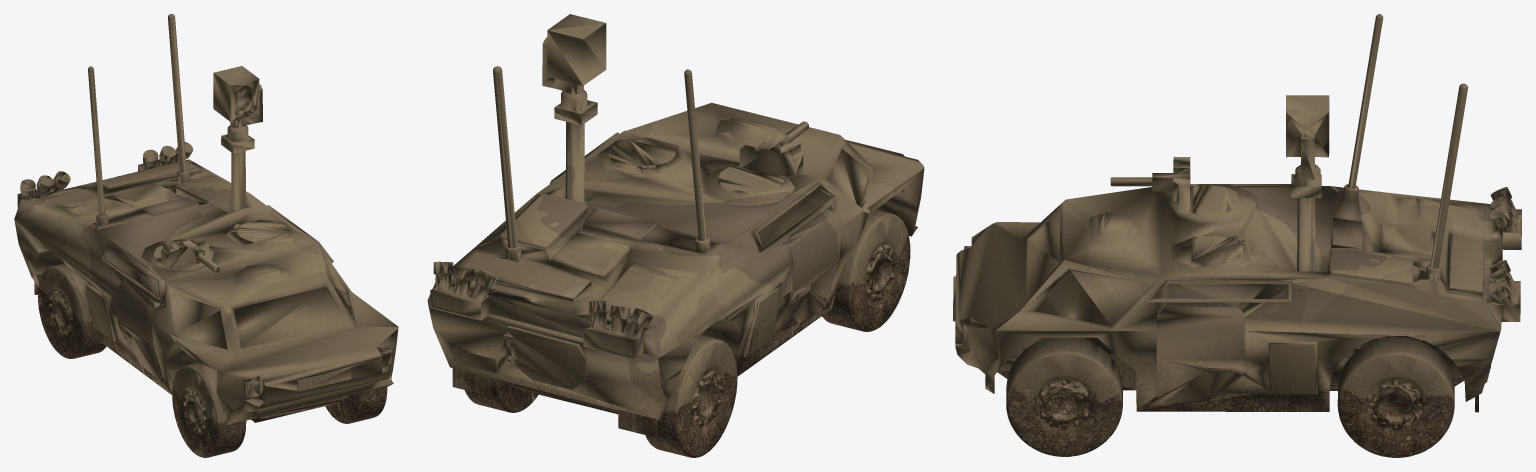
The model's file is apc_fennek.glb.
3 renders of one model, left to right at view 1: azimuth 30°, elevation 25°; view 2: azimuth 150°, elevation 25°; view 3: azimuth 270°, elevation 25°, orthographic. The views are drawn at different scales.
Parts seen in each view (by area): view 1: Fennek; view 2: Fennek; view 3: Fennek.
Part boxes in pixels (x1,y1,x2,y2): Fennek: (14, 14, 398, 457); Fennek: (427, 14, 924, 457); Fennek: (953, 14, 1521, 457).
Bounding box in the file's own units: 2.66 × 3.95 × 5.71.
Materials: 1 (1 with a texture image).
